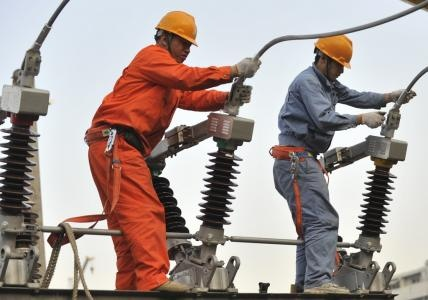yellow: (152, 7, 199, 63), (309, 28, 354, 82)
